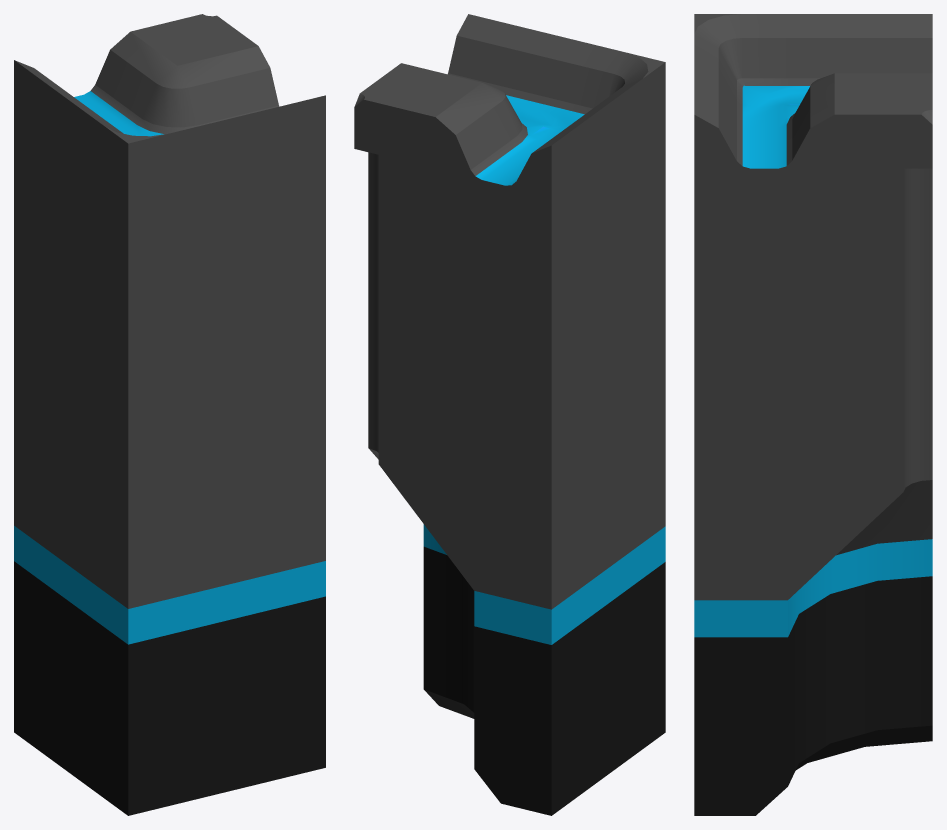
File: Floor_Edge_Corner_01x1_S.fbx
The picture shows the model from 3 angles, left to right: view 1: azimuth 30°, elevation 25°; view 2: azimuth 150°, elevation 25°; view 3: azimuth 270°, elevation 25°; orthographic projection. The views are drawn at different scales.
Visible parts, largest first — view 1: Floor_Edge_Corner_01x1_S; view 2: Floor_Edge_Corner_01x1_S; view 3: Floor_Edge_Corner_01x1_S.
Part boxes in pixels (x1,y1,x2,y2): Floor_Edge_Corner_01x1_S: (14, 14, 325, 815); Floor_Edge_Corner_01x1_S: (354, 14, 665, 815); Floor_Edge_Corner_01x1_S: (694, 14, 932, 815).
Size of the model in its own units: 200 by 650 by 200.
